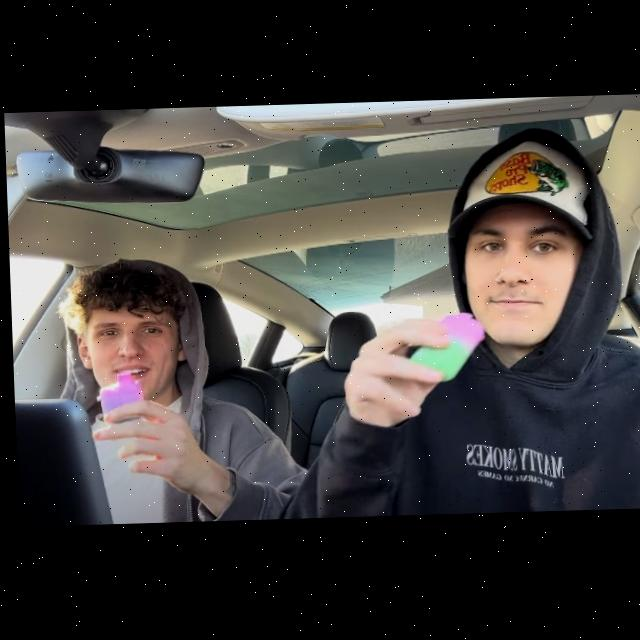vape: (405, 315, 484, 385), (93, 373, 140, 425)
